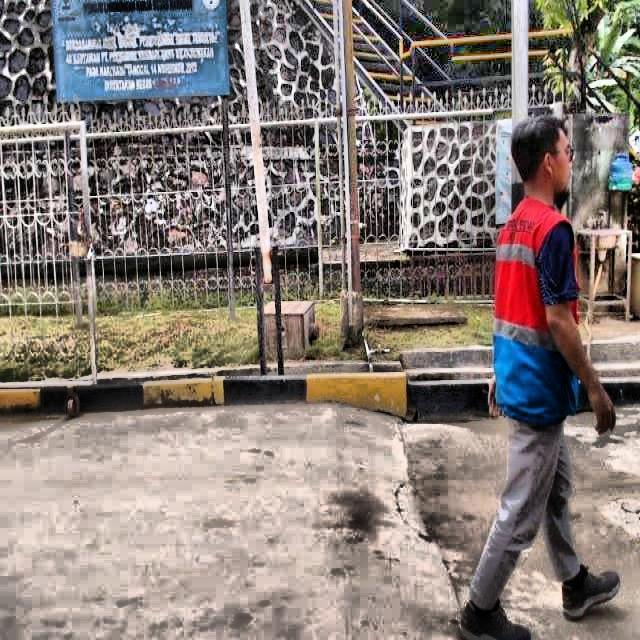safety_jacket: (492, 197, 585, 426)
